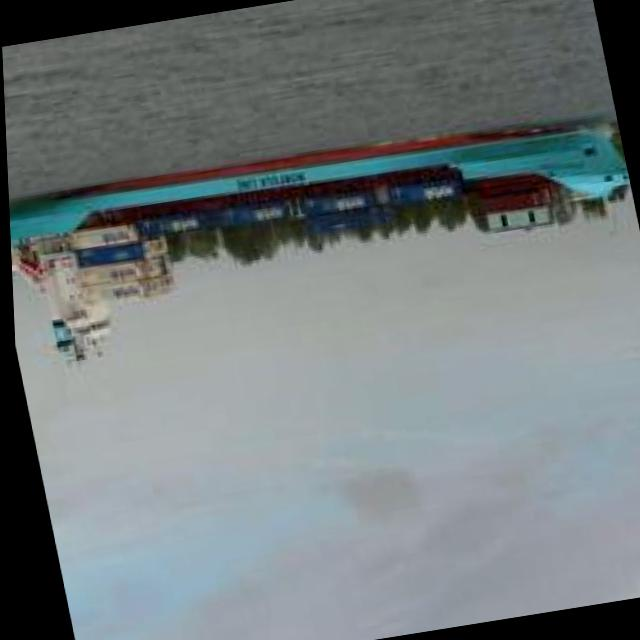ship2: (7, 125, 629, 373)
